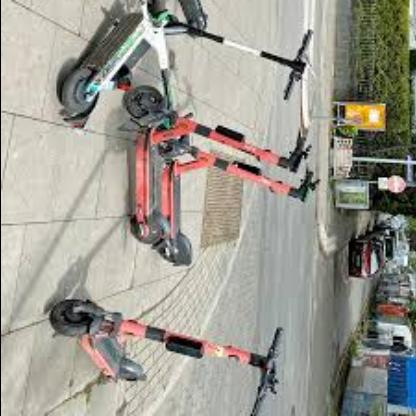bike: (56, 0, 317, 268), (49, 299, 284, 416)
